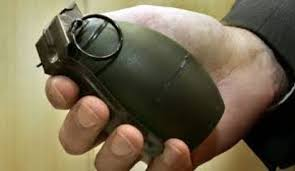e1: (32, 3, 226, 151)
